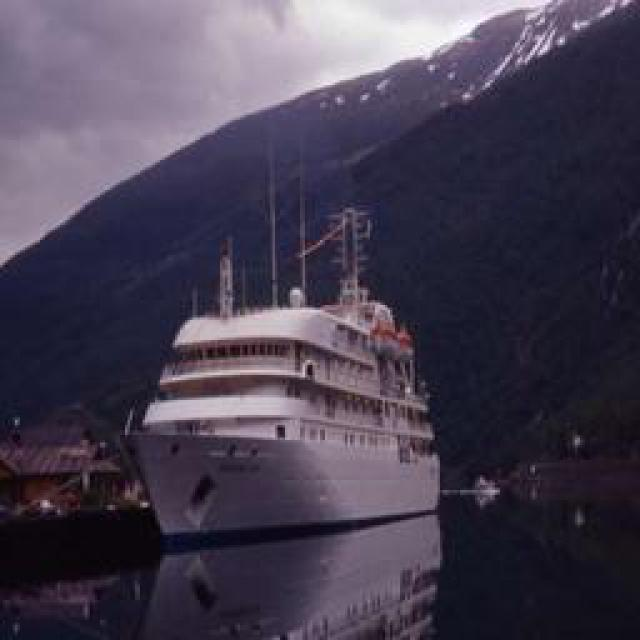Ship: (125, 261, 443, 636)
